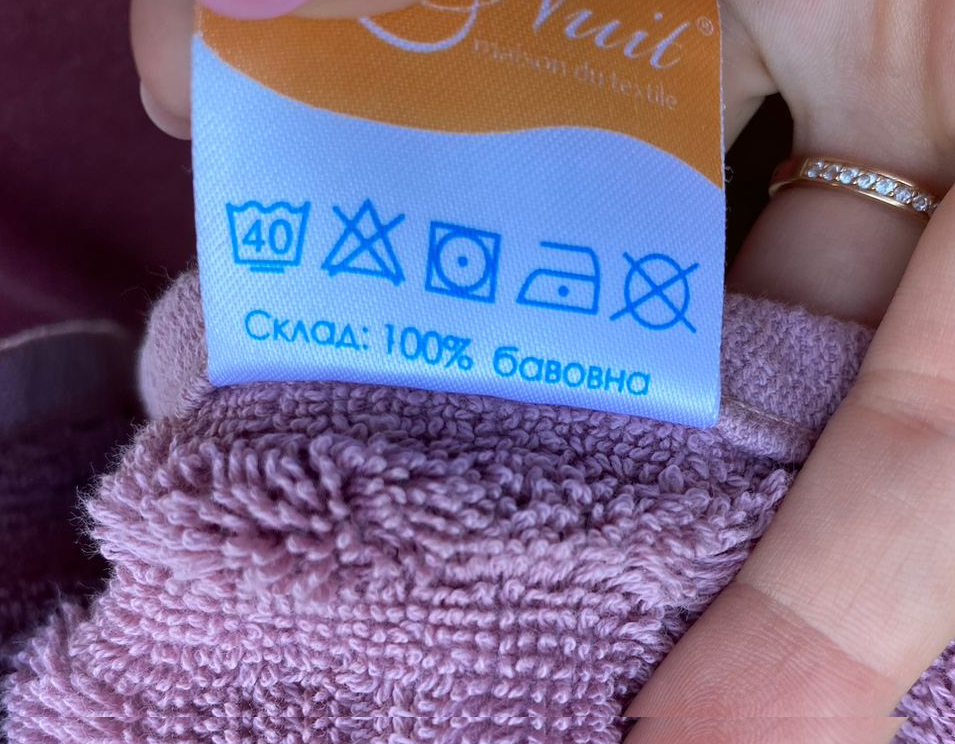do_not_bleach: (315, 193, 415, 287)
do_not_dry_clean: (605, 245, 707, 337)
ironing_at_low_temp: (514, 236, 608, 317)
tumble_drying_low_temps: (420, 218, 507, 305)
wash_at_or_below_40_mild_fine_wash: (214, 192, 317, 276)
